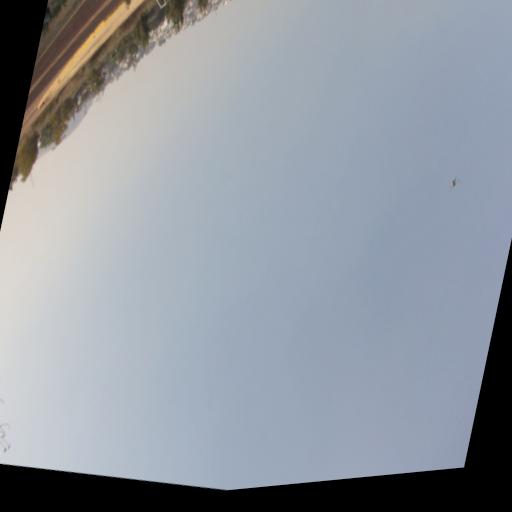drones: (446, 170, 461, 196)
